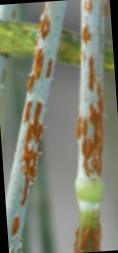Wheat: (76, 1, 108, 176), (22, 42, 50, 173), (78, 224, 98, 250)
